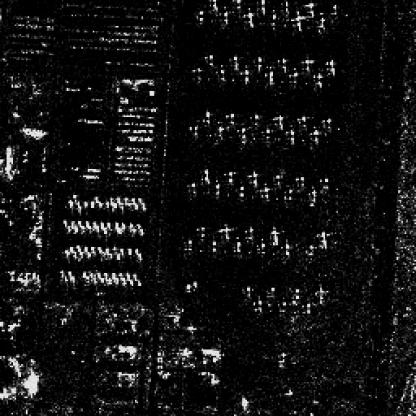airplane: (283, 128, 302, 148), (240, 8, 257, 28), (272, 112, 288, 132), (294, 112, 310, 132), (289, 171, 309, 187), (322, 57, 338, 76), (234, 127, 250, 146), (267, 10, 281, 31), (307, 73, 325, 89), (247, 112, 263, 130), (318, 112, 336, 128), (216, 222, 232, 240), (291, 11, 305, 31), (211, 67, 231, 81), (195, 224, 208, 245), (262, 127, 278, 144), (260, 70, 275, 88), (307, 130, 325, 145), (275, 54, 289, 73), (202, 52, 218, 68), (284, 70, 300, 86), (198, 109, 216, 123), (317, 174, 335, 188), (254, 237, 268, 255), (299, 57, 314, 73), (281, 186, 296, 202), (190, 66, 203, 84), (268, 228, 281, 246), (315, 16, 330, 31), (223, 109, 237, 125), (258, 184, 272, 200), (211, 180, 223, 198), (306, 187, 318, 205), (281, 240, 293, 258), (256, 0, 270, 15), (281, 0, 294, 16), (187, 122, 203, 135), (182, 236, 195, 252), (273, 168, 284, 186), (213, 124, 227, 138), (239, 68, 252, 83), (247, 169, 260, 184), (306, 0, 318, 16), (186, 180, 198, 196), (224, 166, 236, 182), (219, 10, 232, 24), (228, 55, 240, 70), (195, 8, 206, 24), (200, 166, 211, 182), (236, 182, 247, 198), (244, 226, 255, 242), (252, 57, 265, 70), (232, 239, 244, 253), (208, 239, 219, 253), (229, 0, 244, 10), (208, 0, 219, 13), (81, 198, 88, 212), (76, 250, 84, 262), (75, 198, 81, 212), (135, 221, 143, 231), (111, 245, 117, 257), (130, 224, 136, 236), (122, 193, 128, 205), (68, 245, 75, 255), (125, 247, 132, 257), (102, 245, 109, 255), (89, 245, 96, 255), (76, 219, 83, 229), (138, 226, 145, 236), (115, 226, 122, 236), (101, 270, 107, 281), (124, 270, 130, 281), (67, 197, 73, 208), (112, 221, 120, 229), (63, 249, 70, 258), (67, 270, 73, 280), (86, 268, 91, 280), (135, 276, 141, 286), (135, 252, 141, 262), (119, 245, 124, 257), (74, 244, 80, 254), (98, 250, 104, 260), (70, 218, 76, 228), (84, 218, 90, 228), (127, 221, 133, 231), (93, 193, 99, 203), (111, 200, 117, 210), (133, 247, 140, 255), (73, 224, 80, 232), (91, 275, 96, 286), (119, 200, 124, 211), (133, 200, 138, 211), (63, 274, 68, 284), (70, 274, 75, 284), (83, 274, 88, 284), (94, 270, 99, 280), (110, 271, 115, 281), (117, 271, 122, 281), (120, 276, 125, 286), (96, 245, 101, 255), (120, 221, 125, 231), (91, 219, 96, 229), (99, 219, 104, 229), (102, 224, 107, 234), (104, 198, 109, 208), (127, 200, 132, 210), (58, 270, 64, 278), (127, 278, 133, 286), (106, 252, 112, 260), (85, 250, 91, 258), (62, 218, 68, 226), (65, 224, 71, 232), (98, 198, 104, 206), (81, 223, 86, 232), (109, 193, 114, 202), (72, 192, 76, 203), (140, 200, 144, 211), (80, 270, 84, 280), (99, 276, 104, 284), (106, 276, 110, 286), (114, 276, 118, 286), (72, 250, 76, 260), (116, 252, 120, 262), (83, 246, 88, 254), (106, 221, 110, 231), (94, 224, 99, 232), (90, 198, 94, 208), (116, 193, 120, 203), (130, 195, 135, 203), (136, 195, 141, 203), (132, 272, 136, 280)
